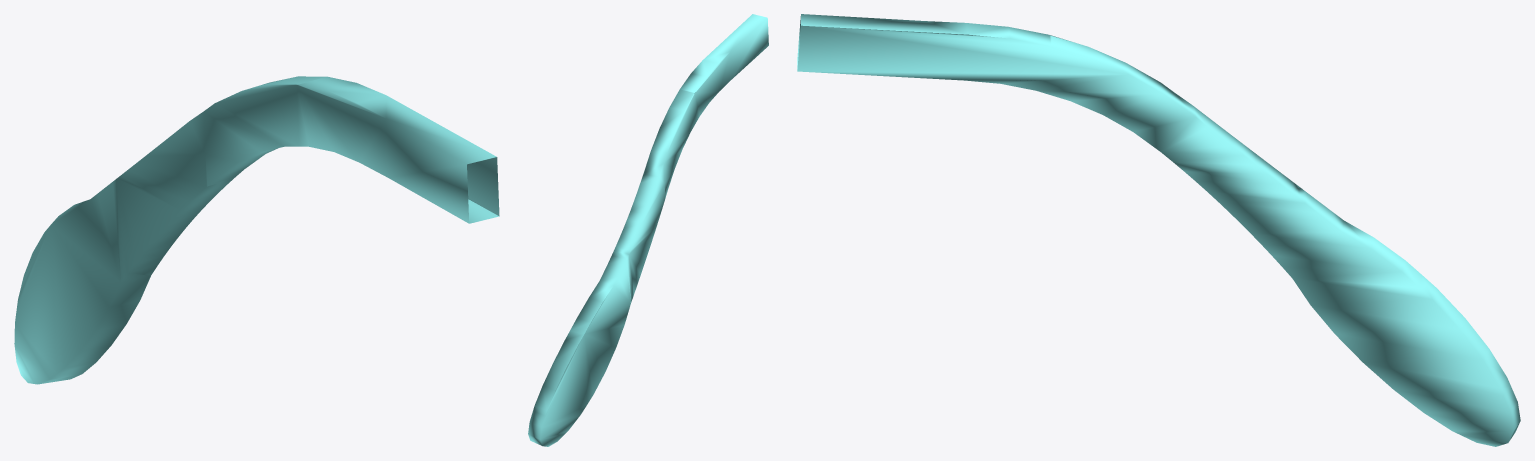
Rendered from original-11.obj.
The picture shows the model from 3 angles, left to right: view 1: azimuth 30°, elevation 25°; view 2: azimuth 150°, elevation 25°; view 3: azimuth 270°, elevation 25°; orthographic projection. The views are drawn at different scales.
Parts seen in each view (by area): view 1: Group11/mesh56/mesh56-geometry#mesh56-geometry; view 2: Group11/mesh56/mesh56-geometry#mesh56-geometry; view 3: Group11/mesh56/mesh56-geometry#mesh56-geometry.
Part boxes in pixels (left/top/right/bottom): Group11/mesh56/mesh56-geometry#mesh56-geometry: left=14, top=76, right=499, bottom=384; Group11/mesh56/mesh56-geometry#mesh56-geometry: left=528, top=14, right=768, bottom=446; Group11/mesh56/mesh56-geometry#mesh56-geometry: left=797, top=14, right=1520, bottom=446.
Size of the model in its own units: 0.0257 by 0.1966 by 0.3043.
